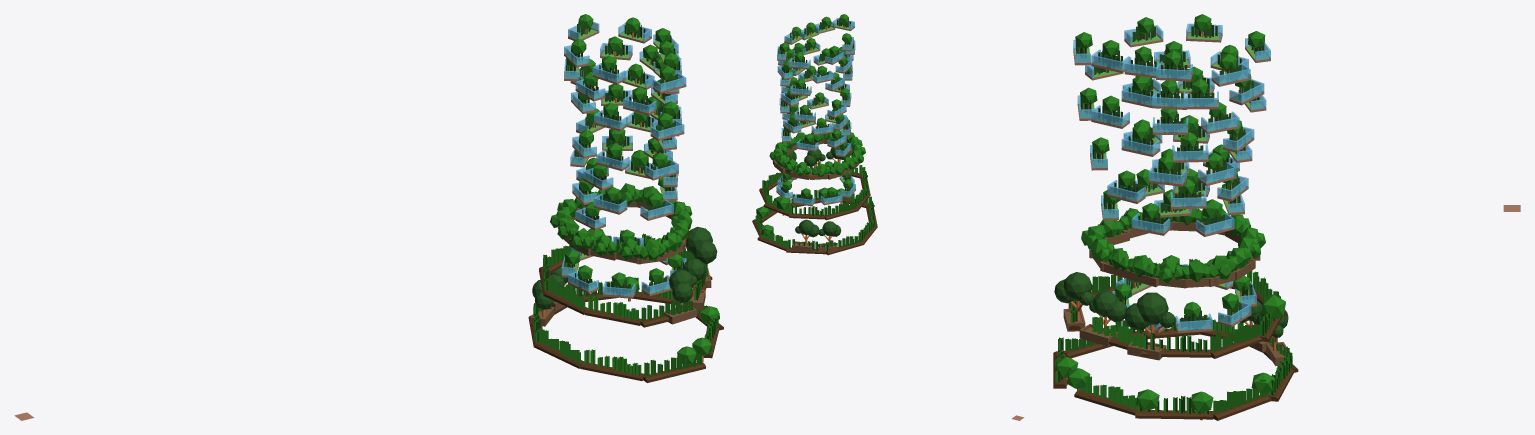
Rendered from solution_15_building_cover_balkony.fbx.
3 renders of one model, left to right at view 1: azimuth 30°, elevation 25°; view 2: azimuth 150°, elevation 25°; view 3: azimuth 270°, elevation 25°, orthographic. The views are drawn at different scales.
Visible parts, largest first — view 1: solution_15_building_cover_balkony; view 2: solution_15_building_cover_balkony; view 3: solution_15_building_cover_balkony.
Boxes of the visible parts, <box> form: solution_15_building_cover_balkony: <box>14,14,723,420</box>; solution_15_building_cover_balkony: <box>752,14,1024,420</box>; solution_15_building_cover_balkony: <box>1053,14,1520,420</box>.
Size of the model in its own units: 8434 by 5574 by 5472.
